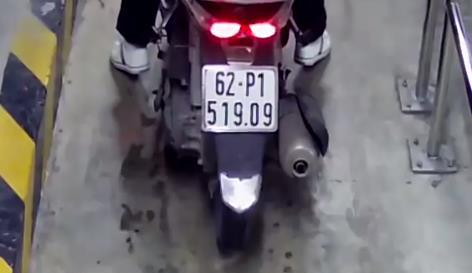lisence: (201, 65, 277, 133)
